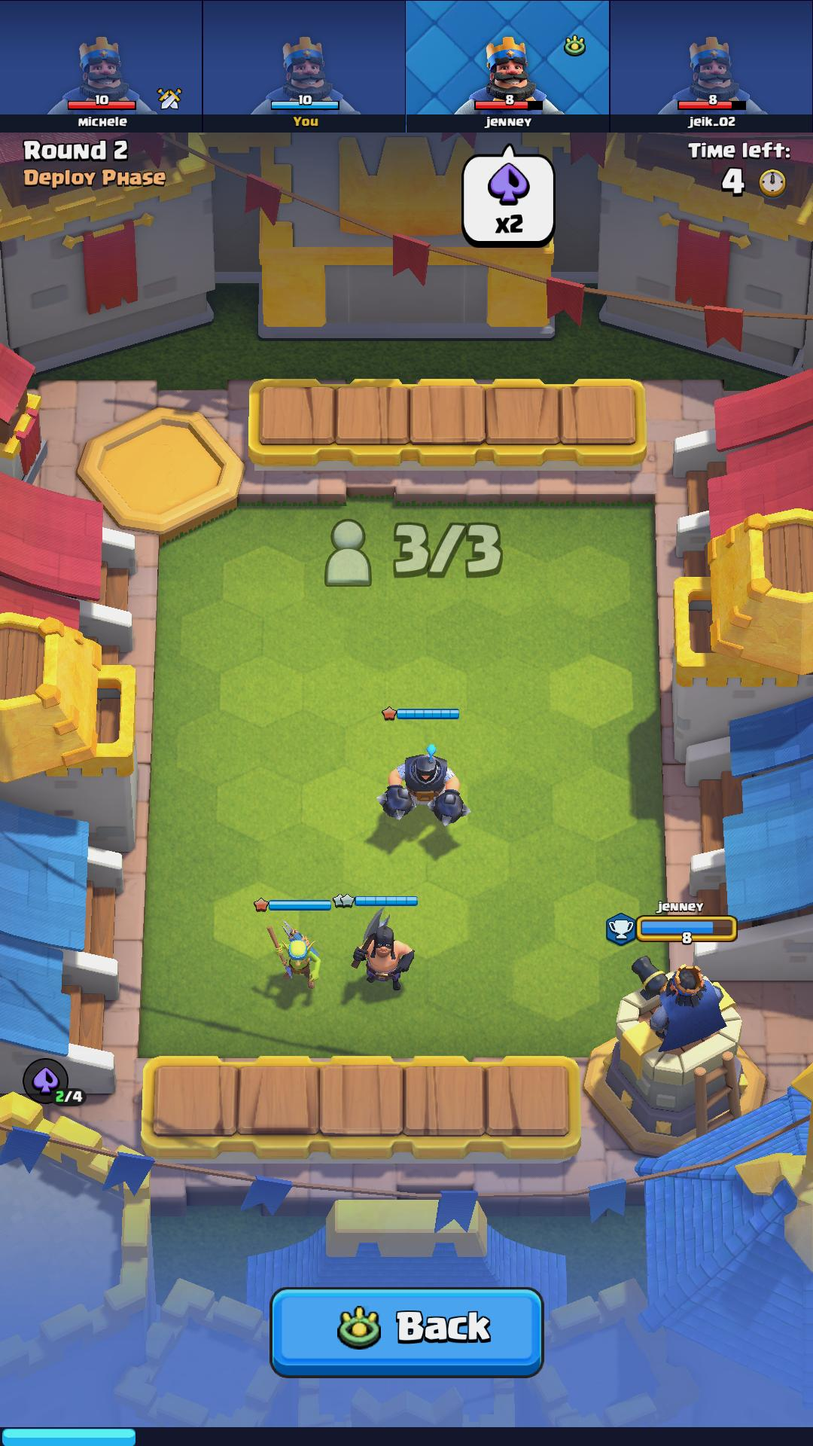executioner: (344, 908, 419, 1000)
mega: (375, 746, 468, 831)
spear: (266, 918, 336, 989)
